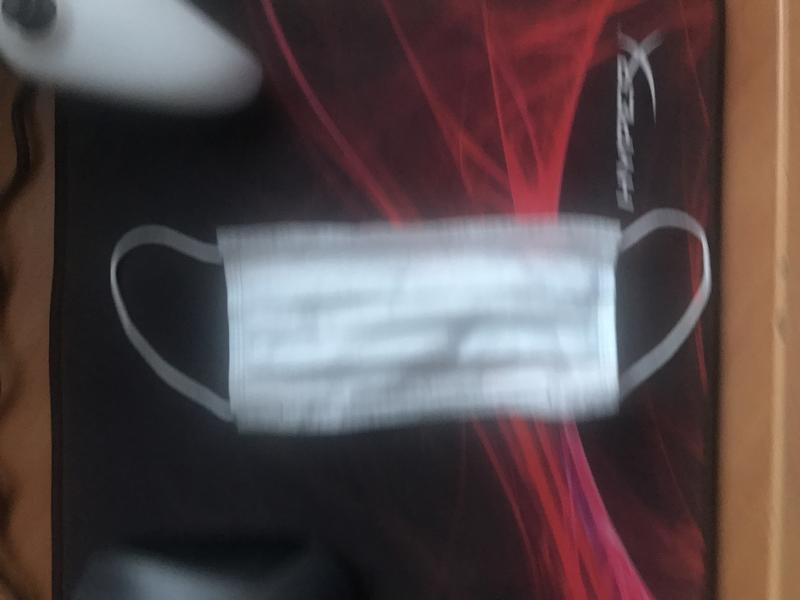medical_mask: (112, 210, 712, 418)
